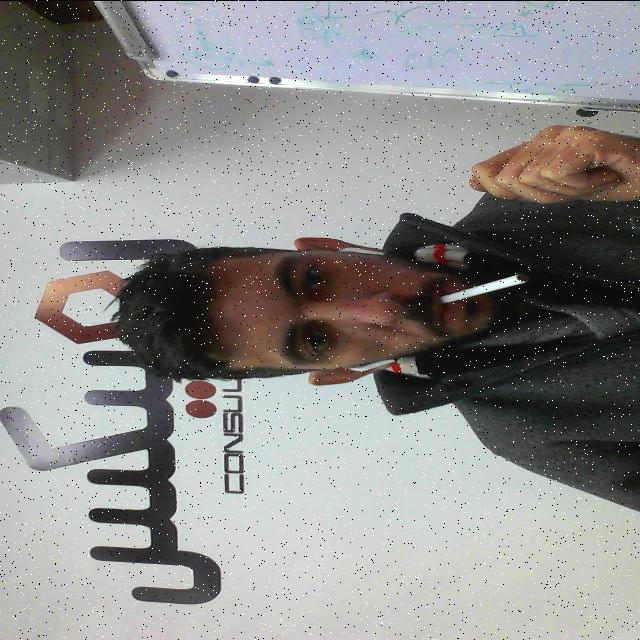face_no_mask: (214, 243, 500, 377)
